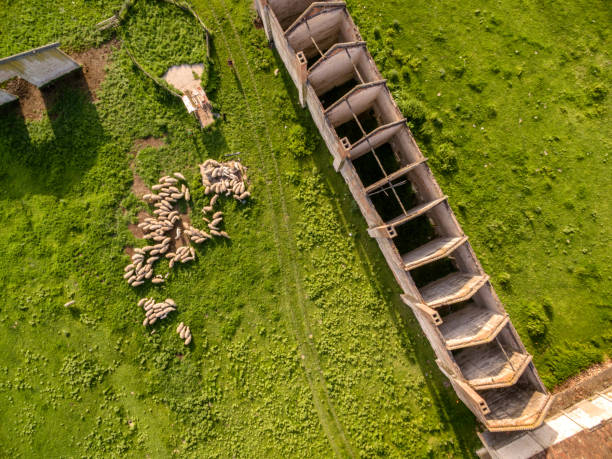sheep: (170, 171, 191, 183), (185, 246, 199, 261), (141, 302, 157, 315), (148, 276, 167, 286), (64, 298, 78, 311), (205, 221, 220, 232), (209, 217, 224, 228), (179, 184, 189, 200), (150, 201, 166, 211), (154, 307, 167, 319), (137, 296, 149, 309), (210, 194, 223, 206), (201, 176, 213, 189), (165, 298, 179, 309), (141, 191, 161, 198), (158, 199, 172, 209), (158, 194, 175, 202), (157, 218, 172, 227), (136, 220, 151, 229), (207, 228, 219, 239), (180, 256, 193, 266), (239, 182, 249, 195), (216, 179, 226, 192), (167, 184, 180, 194), (146, 255, 160, 264), (193, 237, 207, 246), (164, 209, 178, 218), (143, 217, 157, 226), (145, 229, 156, 240), (147, 316, 159, 326), (122, 269, 134, 279), (228, 179, 238, 191), (142, 310, 155, 319), (217, 162, 226, 175), (166, 190, 179, 199), (176, 321, 184, 335), (132, 249, 146, 257), (161, 250, 175, 258), (151, 206, 165, 214), (164, 306, 174, 317), (177, 246, 188, 256), (197, 227, 208, 237), (144, 267, 153, 279), (209, 182, 218, 194), (180, 327, 187, 342), (151, 302, 166, 309), (131, 253, 146, 260), (121, 263, 134, 271), (153, 242, 166, 250), (165, 176, 178, 184), (214, 210, 224, 220), (160, 184, 170, 194), (227, 160, 236, 171), (185, 325, 192, 339), (143, 244, 155, 252), (155, 176, 171, 182), (152, 182, 164, 190), (159, 226, 171, 234), (136, 261, 143, 274), (156, 243, 165, 253), (185, 335, 193, 346), (186, 230, 197, 238), (182, 221, 193, 229), (238, 192, 249, 200), (131, 280, 143, 287), (201, 208, 213, 215), (220, 231, 229, 240), (222, 178, 230, 188), (154, 235, 167, 241), (126, 275, 135, 283), (168, 257, 174, 268), (159, 210, 166, 219), (237, 184, 242, 195), (208, 167, 214, 173)
